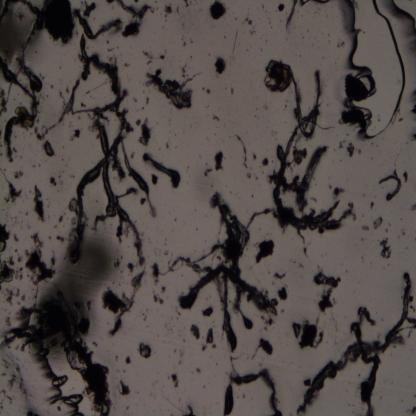Air bubble: (348, 0, 408, 144), (34, 343, 82, 415), (391, 0, 416, 27)
Background material: (37, 233, 111, 344), (71, 336, 112, 416), (144, 69, 194, 110), (36, 1, 76, 45), (24, 232, 57, 285), (0, 306, 36, 352), (263, 60, 292, 92), (341, 108, 369, 136), (343, 72, 369, 102), (300, 323, 326, 351), (0, 0, 42, 17), (32, 187, 47, 224), (255, 238, 275, 265), (4, 179, 24, 204), (0, 255, 16, 286), (314, 272, 341, 290), (316, 291, 335, 314), (208, 1, 228, 22), (5, 365, 22, 388), (297, 230, 309, 262), (256, 338, 274, 358), (0, 223, 11, 254), (379, 236, 392, 260), (136, 341, 152, 360), (407, 88, 416, 121), (118, 222, 132, 243), (122, 20, 139, 37), (174, 349, 190, 367), (213, 149, 225, 173), (292, 148, 307, 166), (140, 46, 155, 64), (150, 261, 160, 288), (140, 124, 152, 146), (78, 316, 91, 336), (118, 379, 132, 397), (213, 57, 227, 75), (260, 316, 275, 332), (43, 140, 55, 159), (189, 323, 201, 342), (291, 322, 302, 340), (0, 388, 13, 403), (205, 327, 215, 346), (333, 188, 346, 202), (152, 294, 165, 308), (278, 286, 288, 304), (372, 215, 384, 230), (170, 372, 180, 390), (115, 256, 126, 270), (233, 26, 238, 55), (5, 290, 14, 306), (274, 270, 287, 281), (72, 127, 81, 142), (347, 143, 356, 158), (163, 4, 174, 16), (185, 404, 195, 416), (408, 132, 416, 147), (13, 170, 25, 180), (203, 306, 213, 318), (203, 169, 215, 179), (180, 64, 188, 78), (336, 39, 346, 50), (244, 16, 254, 27), (337, 138, 346, 150), (49, 176, 58, 188), (16, 267, 23, 282), (56, 234, 66, 244), (260, 156, 270, 166), (212, 113, 221, 124), (409, 402, 416, 416), (402, 170, 409, 184), (5, 314, 13, 326), (58, 214, 66, 226), (201, 87, 212, 95), (87, 122, 95, 133), (127, 263, 134, 275), (400, 225, 407, 237), (361, 223, 370, 232), (277, 4, 286, 13), (200, 343, 208, 353), (125, 356, 132, 367), (252, 150, 258, 162), (303, 377, 311, 386), (91, 340, 100, 348), (180, 36, 186, 48), (135, 118, 143, 127), (409, 200, 416, 210), (194, 368, 202, 376), (113, 352, 120, 361), (166, 140, 172, 150), (160, 284, 166, 294), (248, 29, 256, 36), (109, 57, 117, 64), (159, 54, 166, 62), (357, 147, 363, 156), (13, 145, 19, 154), (59, 92, 65, 101), (370, 202, 375, 212), (176, 5, 181, 15), (13, 232, 18, 242), (20, 294, 26, 302), (260, 3, 266, 10), (18, 254, 23, 262), (230, 88, 235, 96), (184, 0, 189, 8), (246, 172, 252, 178), (316, 263, 320, 271), (104, 40, 109, 46), (326, 39, 332, 44), (14, 247, 19, 252), (283, 105, 287, 110), (246, 48, 250, 52), (312, 199, 318, 201), (268, 21, 271, 25), (270, 25, 272, 29), (191, 40, 193, 43)
Cellulose filter fibre: (296, 272, 416, 414), (269, 117, 356, 229), (102, 107, 146, 268), (178, 264, 280, 316), (78, 34, 128, 106), (204, 189, 250, 264), (350, 305, 380, 415), (119, 137, 158, 220), (68, 157, 102, 252), (221, 368, 285, 416), (3, 88, 40, 161), (107, 272, 145, 338), (40, 78, 80, 140), (288, 68, 322, 137), (295, 144, 329, 208), (73, 7, 121, 40), (219, 273, 238, 352), (160, 255, 211, 278), (17, 55, 42, 90), (284, 0, 309, 32), (247, 206, 279, 229), (378, 174, 402, 202), (118, 1, 155, 19), (234, 132, 250, 170)
Cotton: (142, 151, 180, 182)
